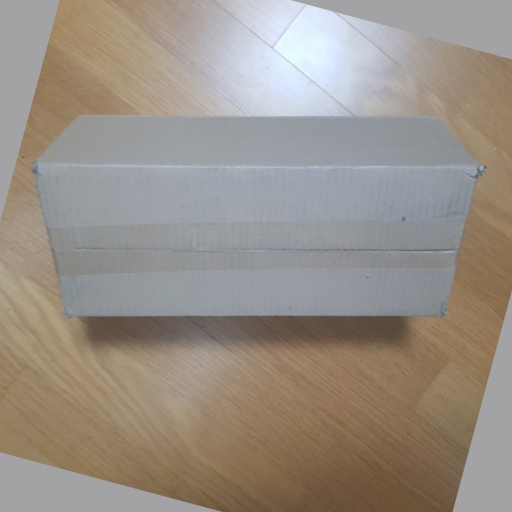Paper_0: (30, 107, 485, 327)
